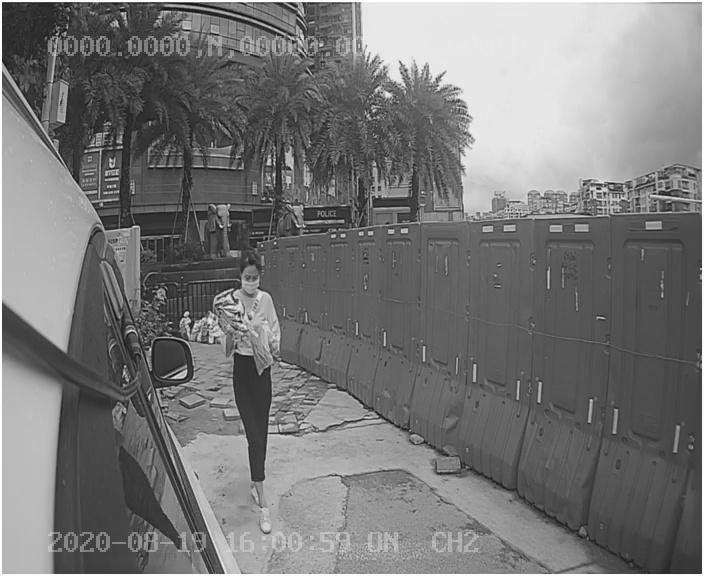person: (204, 255, 309, 529)
